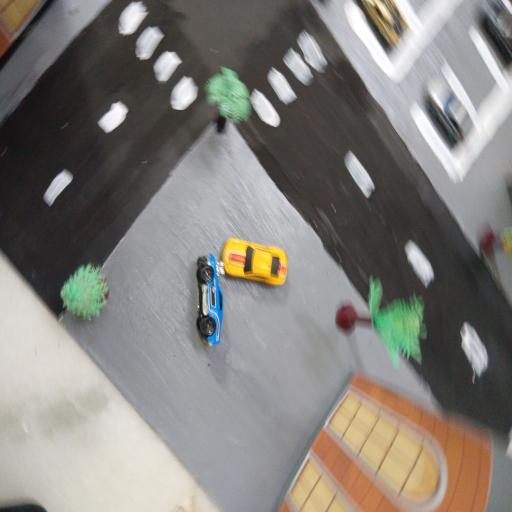car crash: (192, 222, 294, 357)
